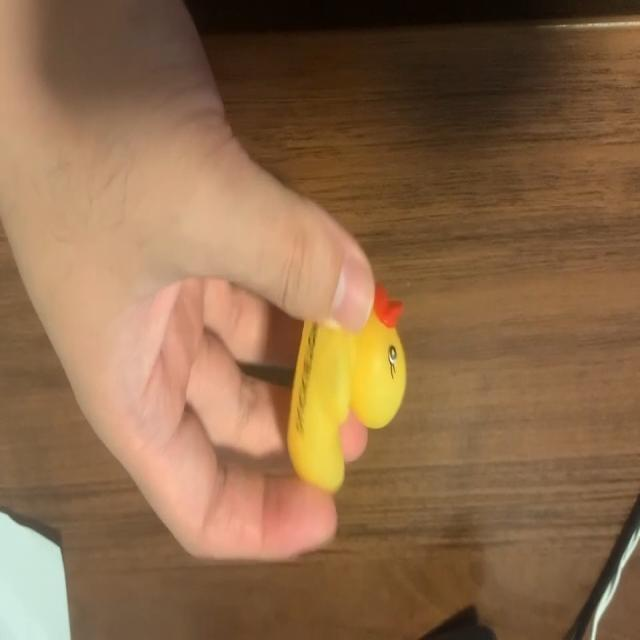rubber-duck: (287, 284, 404, 490)
